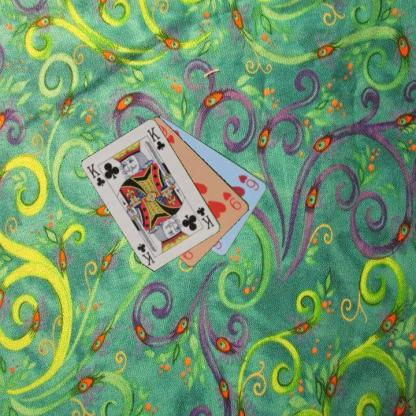6h: (236, 172, 260, 192)
9h: (220, 189, 243, 211)
Kc: (84, 160, 107, 188), (194, 205, 216, 231)
